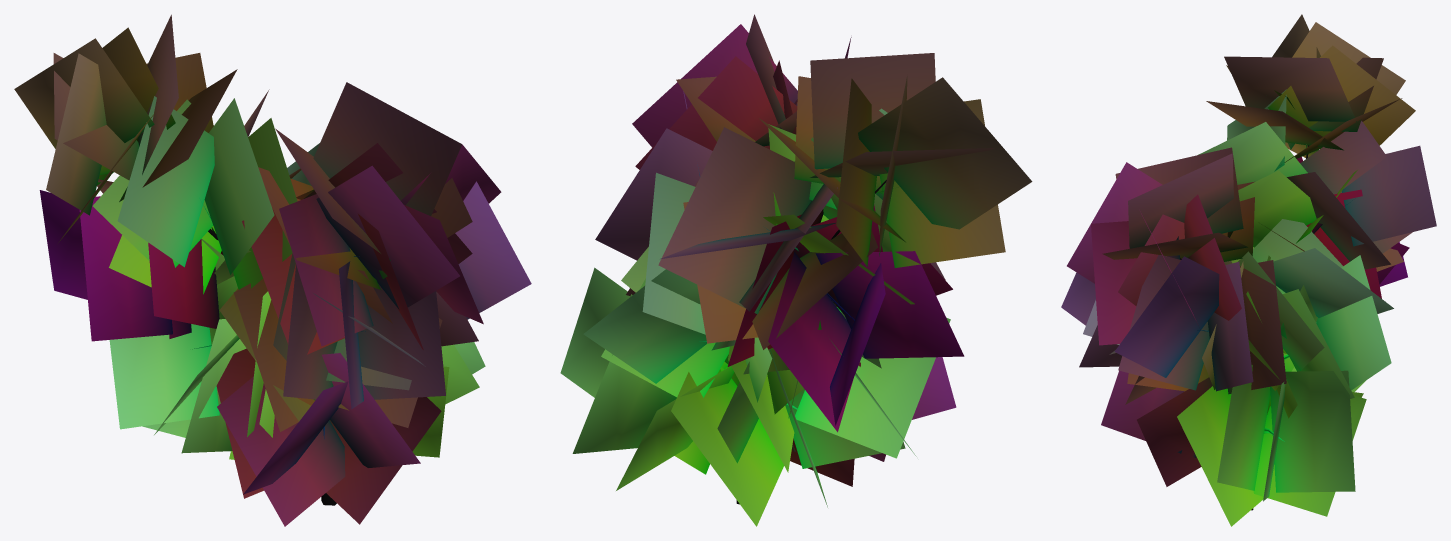
Rendered from URP_P15_Tree_7_LOD_3.fbx.
3 renders of one model, left to right at view 1: azimuth 30°, elevation 25°; view 2: azimuth 150°, elevation 25°; view 3: azimuth 270°, elevation 25°, orthographic. The views are drawn at different scales.
Parts seen in each view (by area): view 1: Tree_7_LOD_3; view 2: Tree_7_LOD_3; view 3: Tree_7_LOD_3.
Boxes of the visible parts, x1,y1,x2,y2 form: Tree_7_LOD_3: (14, 14, 531, 526); Tree_7_LOD_3: (560, 14, 1032, 526); Tree_7_LOD_3: (1061, 14, 1436, 526).
Bounding box in the file's own units: 677 × 703 × 589.
